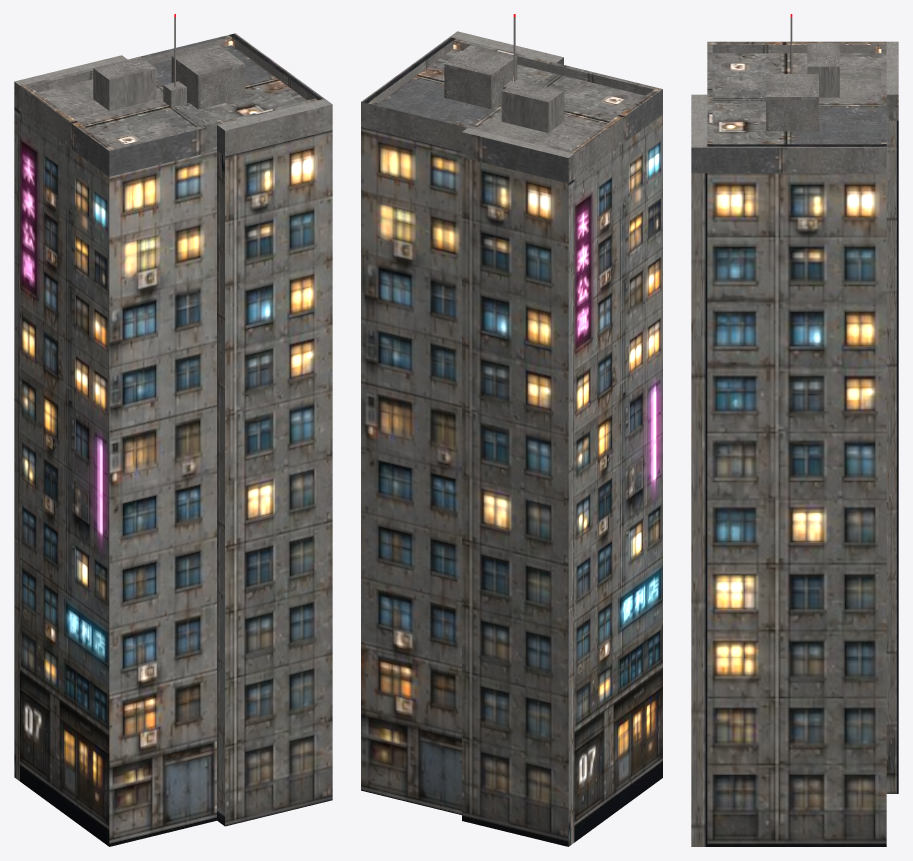
Rendered from cyberpunk-residential-building-8.glb.
3 renders of one model, left to right at view 1: azimuth 30°, elevation 25°; view 2: azimuth 150°, elevation 25°; view 3: azimuth 270°, elevation 25°, orthographic.
Parts seen in each view (by area): view 1: cyberpunk-residential-building-8; view 2: cyberpunk-residential-building-8; view 3: cyberpunk-residential-building-8.
Boxes of the visible parts, x1,y1,x2,y2 form: cyberpunk-residential-building-8: [14, 14, 332, 846]; cyberpunk-residential-building-8: [361, 14, 662, 846]; cyberpunk-residential-building-8: [691, 14, 898, 846].
Bounding box in the file's own units: 36.98 × 127 × 30.67.
2 materials, 1 textured.
